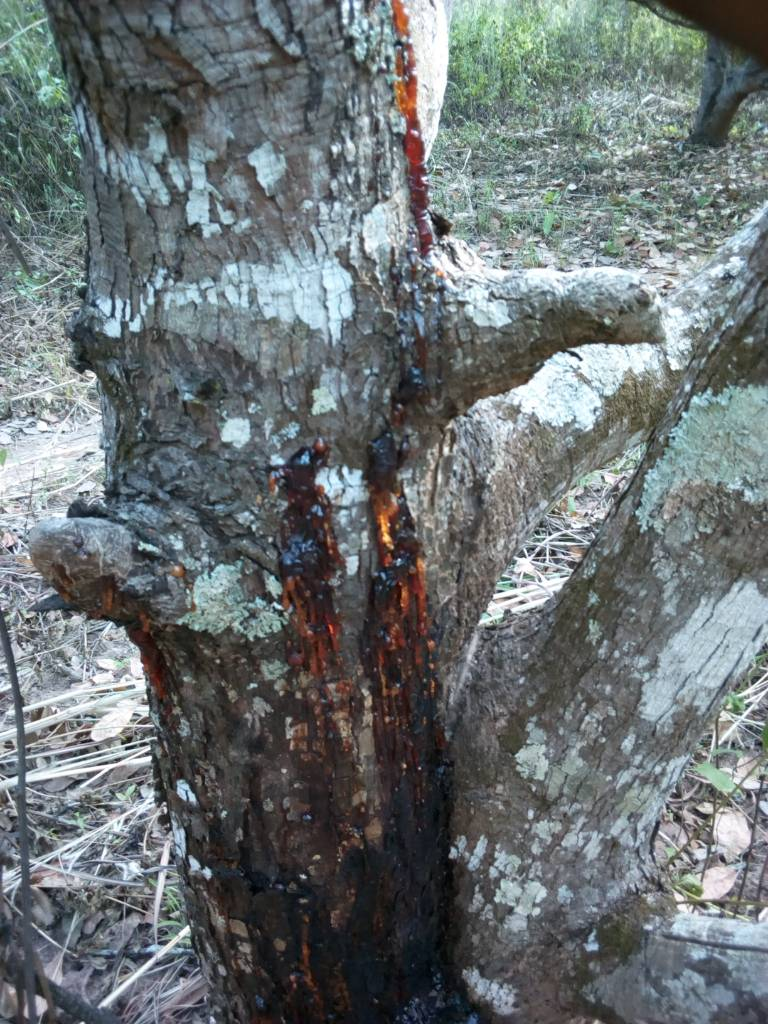Gommose: (263, 444, 454, 1024), (390, 5, 435, 424), (54, 586, 171, 694)
